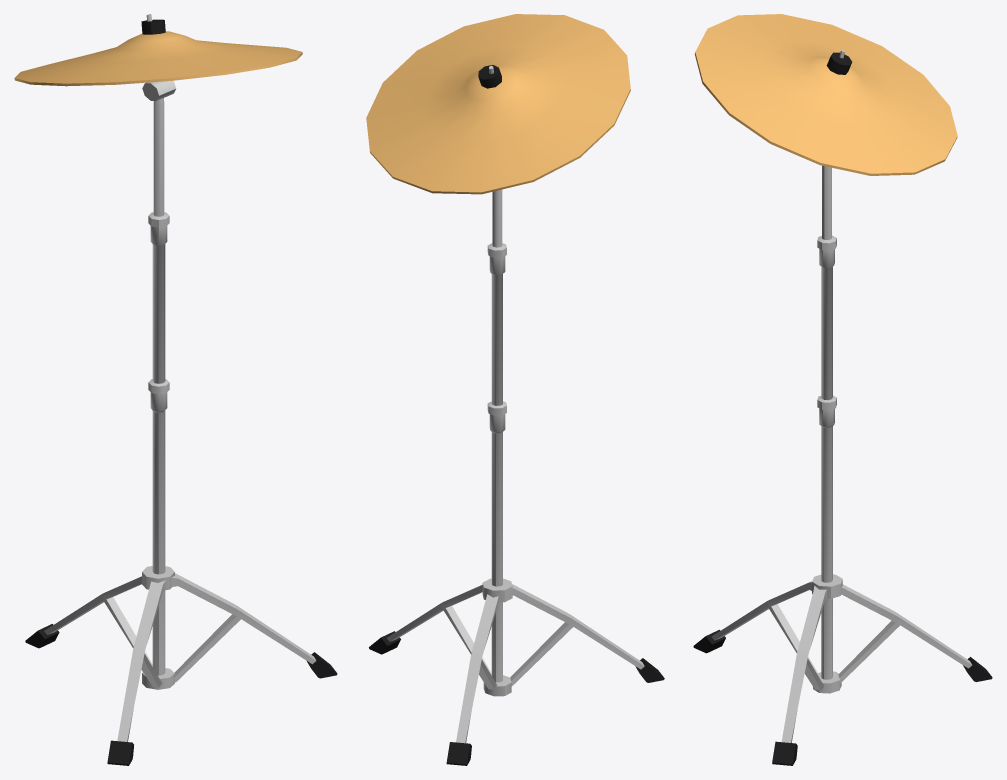
File: SM_Cymball_4k_3.fbx
3 views of the same model, side by side, from view 1: azimuth 30°, elevation 25°; view 2: azimuth 150°, elevation 25°; view 3: azimuth 270°, elevation 25° (orthographic). The views are drawn at different scales.
Parts seen in each view (by area): view 1: Cymball_4k_3; view 2: Cymball_4k_3; view 3: Cymball_4k_3.
Part boxes in pixels (box(x1,y1,x2,y2)): Cymball_4k_3: box(14, 14, 337, 765); Cymball_4k_3: box(366, 14, 664, 765); Cymball_4k_3: box(693, 14, 992, 765).
Bounding box in the file's own units: 45.77 × 105 × 44.27.
Materials: 1 (1 with a texture image).
